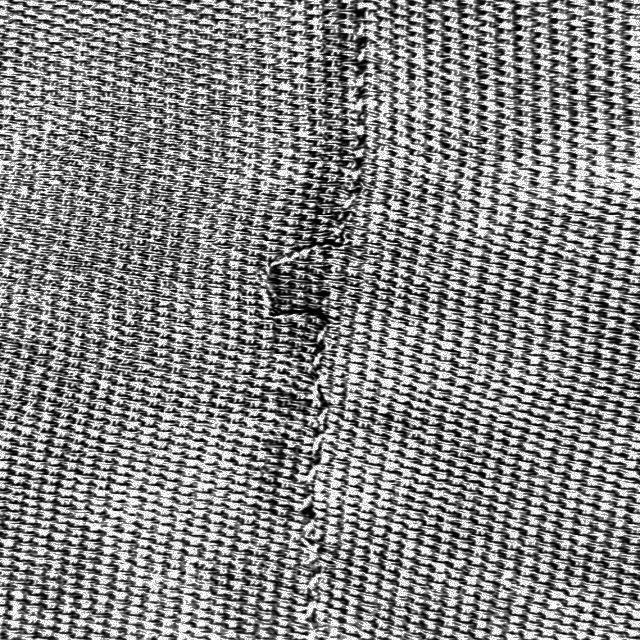Sewing_error: (246, 236, 352, 332)
